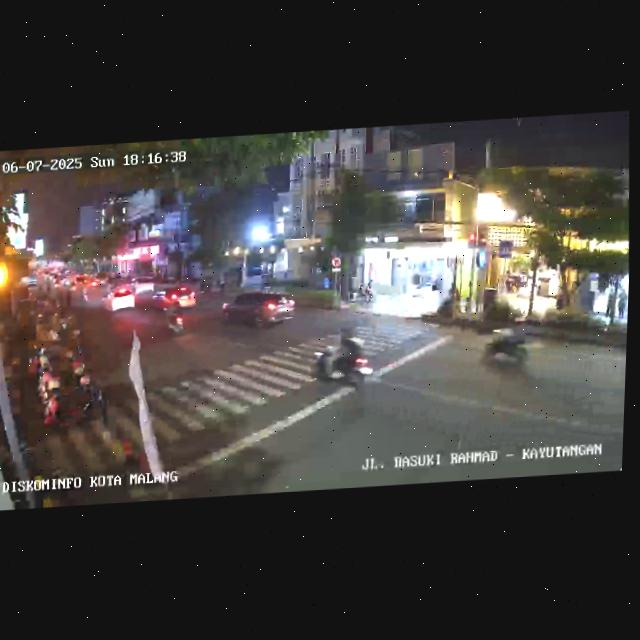car: (219, 287, 294, 335), (150, 281, 197, 313), (102, 284, 139, 314)
motorcycle: (308, 324, 374, 393), (478, 322, 532, 377), (163, 298, 187, 338)
person: (614, 286, 626, 319), (603, 290, 616, 320)
